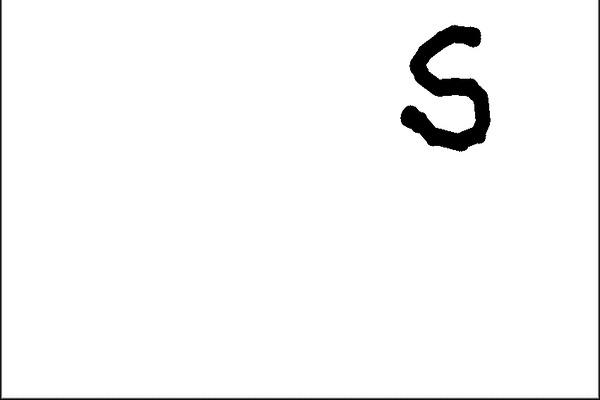S: (391, 21, 496, 160)
